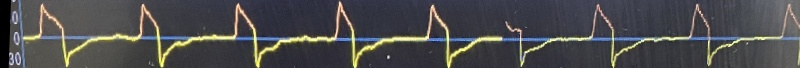normal_flow: (23, 0, 800, 68)
